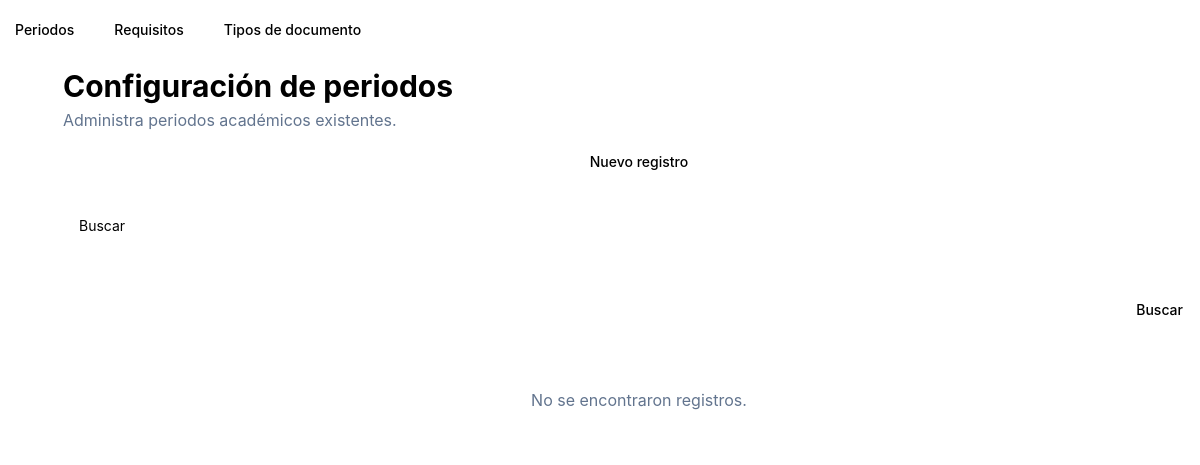
Test case: Configuración de tipos de documento › muestra error de listado y permite reintentar
Later steps or results of the test are not shown.
What coordinates should you click on to do the following:
click the button "Tipos de documento"
I would click on:
 (292, 30)
Its box is top-left (208, 12), bottom-right (377, 48).
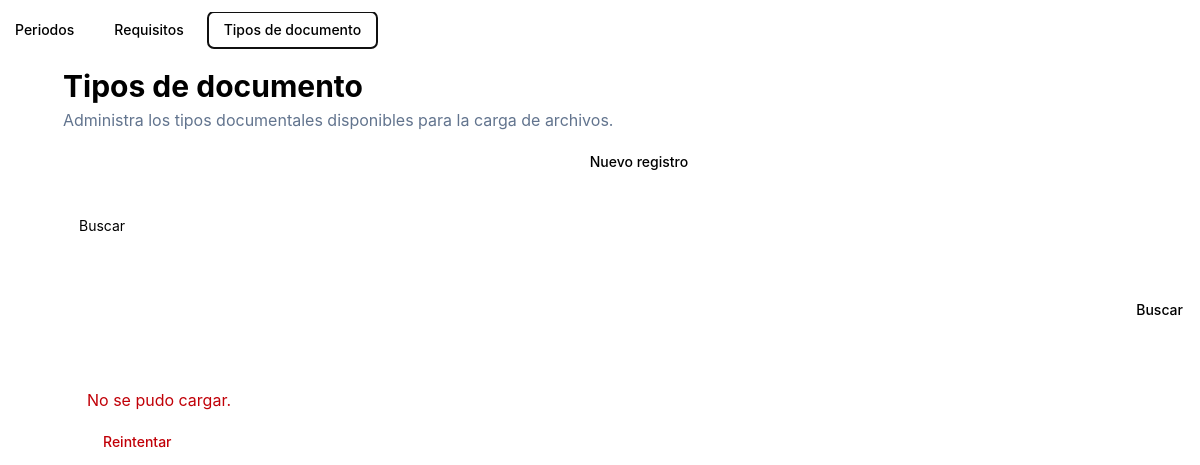
Expected: the heading "Tipos de documento" is shown, top-left (63, 68), bottom-right (363, 104)
Expected: the message shows "No se pudo cargar.", top-left (87, 390), bottom-right (231, 410)
